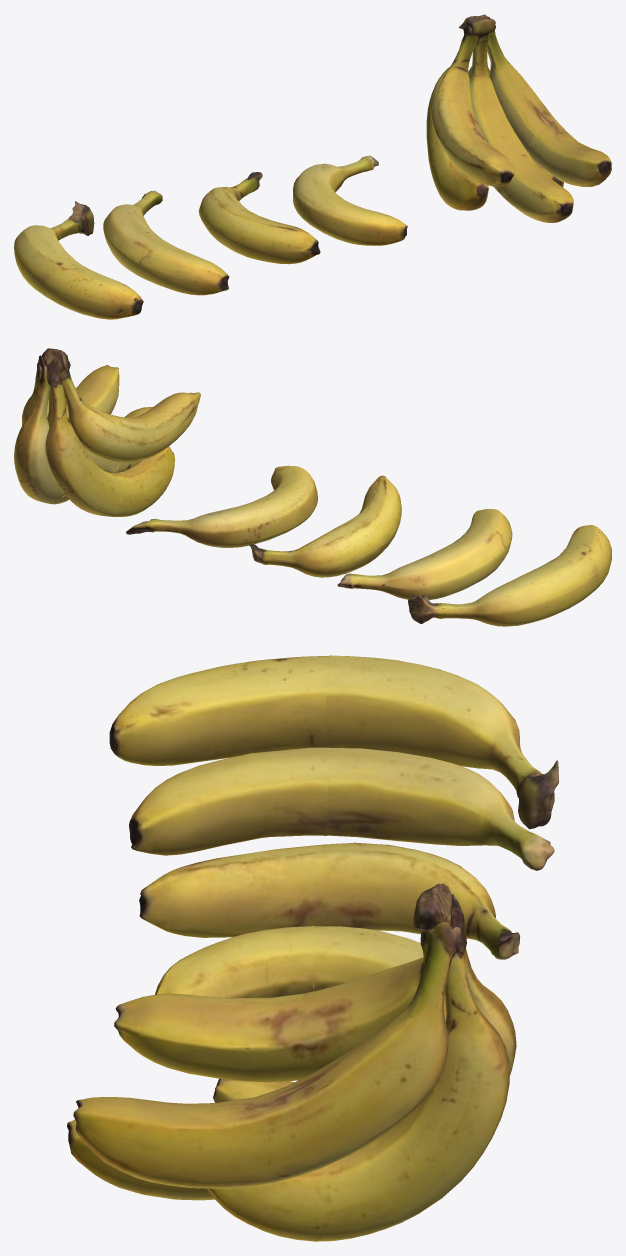
File: ph_bananas.glb
3 renders of one model, top to bottom at view 1: azimuth 30°, elevation 25°; view 2: azimuth 150°, elevation 25°; view 3: azimuth 270°, elevation 25°, orthographic. The views are drawn at different scales.
Parts seen in each view (by area): view 1: bananas_bunch; view 2: bananas_bunch; view 3: bananas_bunch.
Part boxes in pixels (x1,y1,x2,y2): bananas_bunch: (14,14,611,319); bananas_bunch: (14,348,611,626); bananas_bunch: (67,655,558,1241).
Size of the model in its own units: 0.6001 by 0.1789 by 0.244.
1 material, 1 textured.
